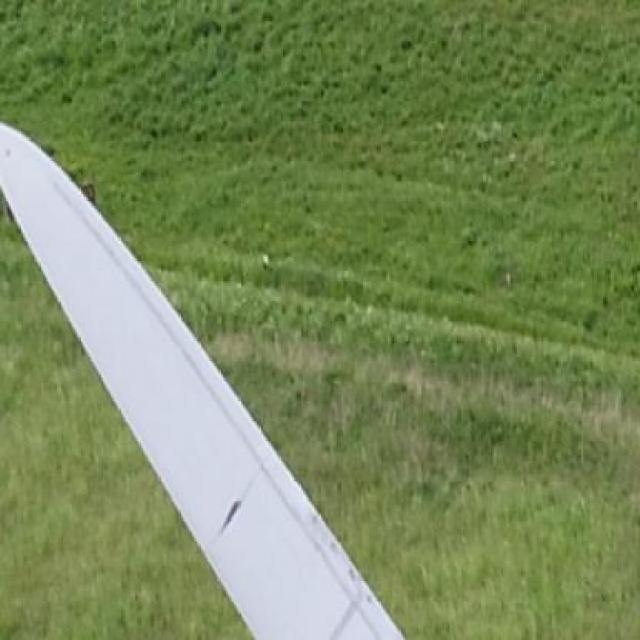Burn Mark: (220, 500, 242, 538)
